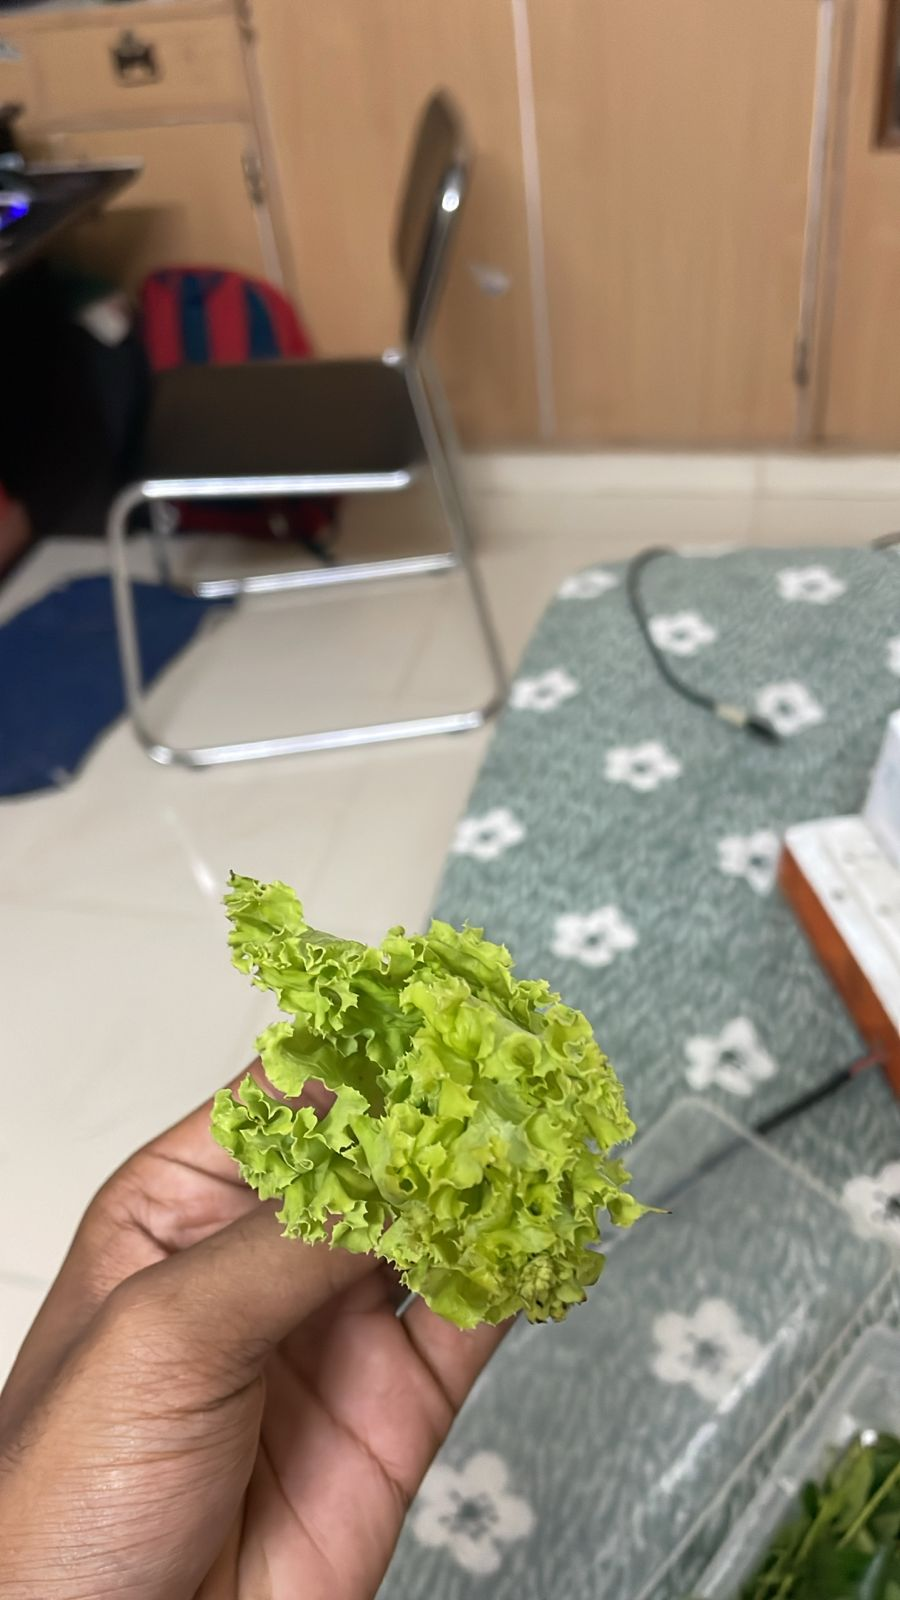wet: (208, 878, 633, 1309)
